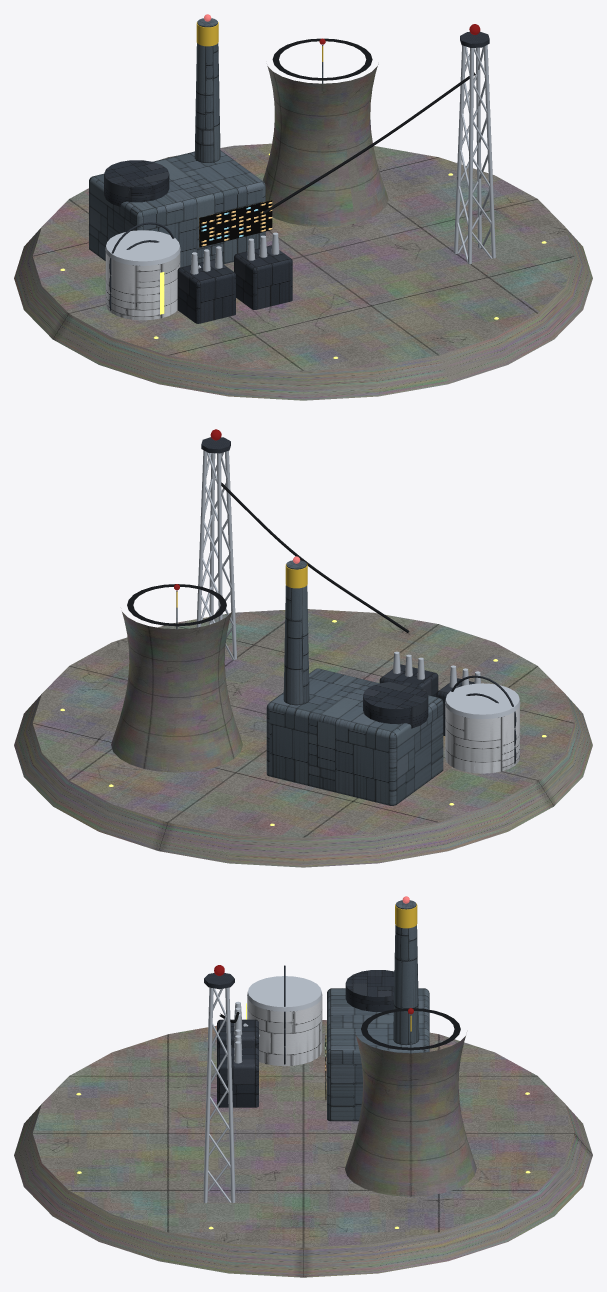
The model's file is power-T2.glb.
The picture shows the model from 3 angles, top to bottom: view 1: azimuth 30°, elevation 25°; view 2: azimuth 150°, elevation 25°; view 3: azimuth 270°, elevation 25°; orthographic projection.
Parts seen in each view (by area): view 1: object 1, object 16, object 11, object 79, anim:smoke, object 20, object 24, object 12, object 13, object 80, object 17, object 78; view 2: object 1, object 11, object 16, object 79, anim:smoke, object 12, object 80, object 17, object 24, object 78; view 3: object 1, object 16, object 11, object 79, anim:smoke, object 80, object 24, object 12, object 17, object 20.
Part boxes in pixels (box(x1,y1,x2,y2)): object 1: box(14, 143, 592, 400); object 16: box(262, 64, 388, 227); object 11: box(89, 150, 265, 267); object 79: box(105, 252, 180, 320); anim:smoke: box(194, 18, 220, 162); object 20: box(177, 259, 235, 323); object 24: box(234, 245, 292, 309); object 12: box(104, 160, 169, 206); object 13: box(199, 200, 272, 247); object 80: box(105, 230, 180, 265); object 17: box(272, 38, 372, 80); object 78: box(263, 72, 475, 214); object 1: box(14, 609, 592, 867); object 11: box(266, 668, 443, 805); object 16: box(111, 611, 242, 772); object 79: box(445, 705, 519, 773); anim:smoke: box(283, 560, 309, 705); object 12: box(363, 681, 428, 728); object 80: box(445, 683, 520, 719); object 17: box(127, 584, 226, 626); object 24: box(379, 664, 438, 696); object 78: box(215, 479, 409, 633); object 1: box(14, 1020, 592, 1277); object 16: box(345, 1035, 476, 1196); object 11: box(327, 988, 429, 1121); object 79: box(247, 997, 322, 1066); anim:smoke: box(393, 900, 419, 1045); object 80: box(247, 976, 322, 1011); object 24: box(217, 1047, 258, 1107); object 12: box(345, 970, 394, 1011); object 17: box(361, 1008, 460, 1050); object 20: box(217, 1019, 258, 1050).
Size of the model in its own units: 6.2 by 3.02 by 6.2.
Materials: 14 (6 with a texture image).
